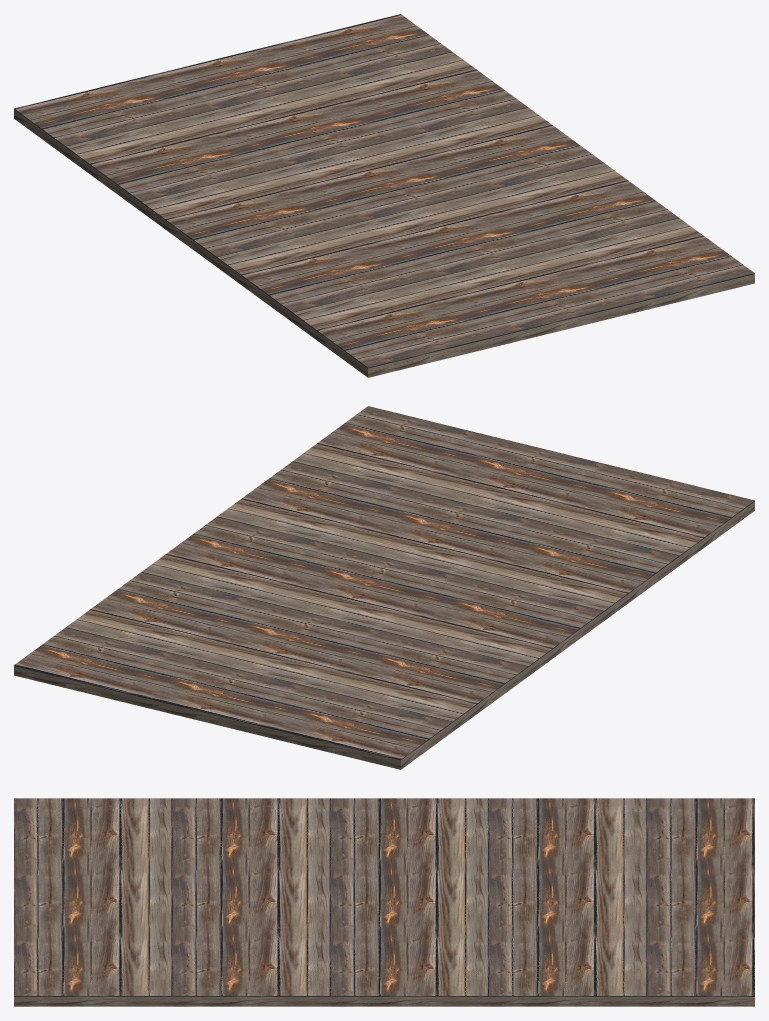
File: piso.obj
3 views of the same model, one above another, from view 1: azimuth 30°, elevation 25°; view 2: azimuth 150°, elevation 25°; view 3: azimuth 270°, elevation 25° (orthographic). The views are drawn at different scales.
Parts seen in each view (by area): view 1: SketchUp_ID2; view 2: SketchUp_ID2; view 3: SketchUp_ID2.
Part boxes in pixels (x1,y1,x2,y2): SketchUp_ID2: [14, 14, 754, 377]; SketchUp_ID2: [14, 406, 754, 769]; SketchUp_ID2: [14, 798, 754, 1006].
Bounding box in the file's own units: 44.3 × 1.12 × 70.23.
